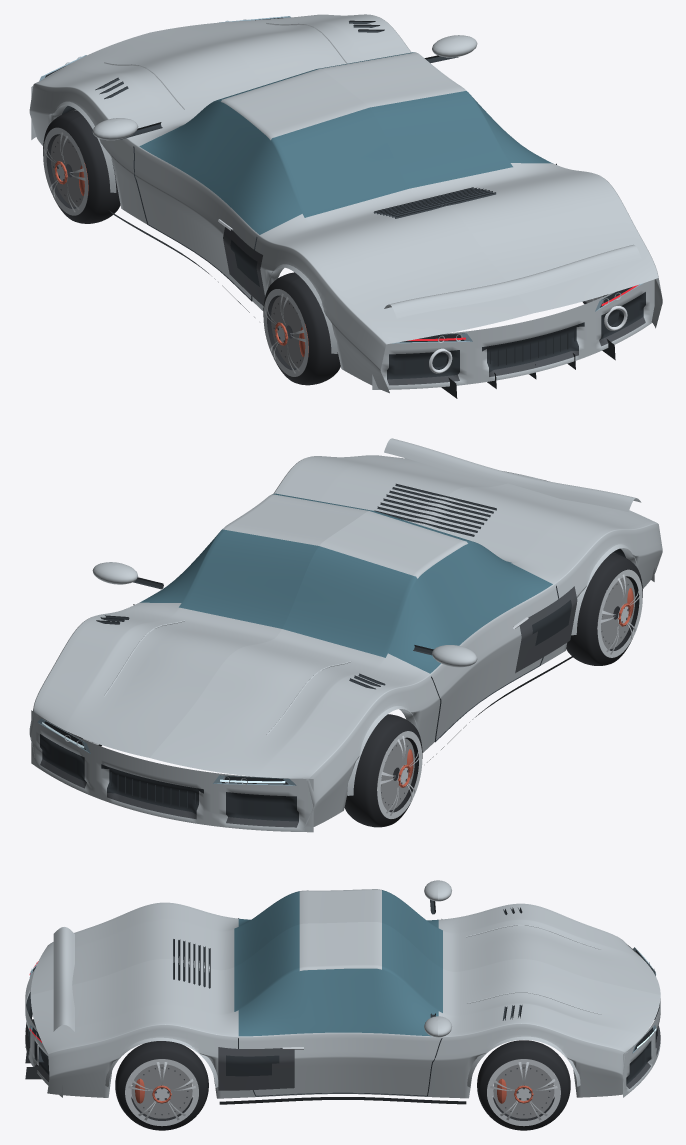
Rendered from cyclone_rs.glb.
3 renders of one model, top to bottom at view 1: azimuth 30°, elevation 25°; view 2: azimuth 150°, elevation 25°; view 3: azimuth 270°, elevation 25°, orthographic. The views are drawn at different scales.
Visible parts, largest first — view 1: Body, Wheel_0, Wheel_2; view 2: Body, Wheel_0, Wheel_2; view 3: Body, Wheel_1, Wheel_3.
Part boxes in pixels (x1,y1,x2,y2): Body: (29, 14, 662, 398); Wheel_0: (43, 110, 120, 223); Wheel_2: (263, 272, 340, 385); Body: (29, 438, 662, 832); Wheel_0: (344, 714, 422, 827); Wheel_2: (566, 553, 642, 665); Body: (25, 880, 660, 1104); Wheel_1: (477, 1040, 570, 1130); Wheel_3: (115, 1041, 208, 1130).
Size of the model in its own units: 2.7 by 1.2 by 4.91.
